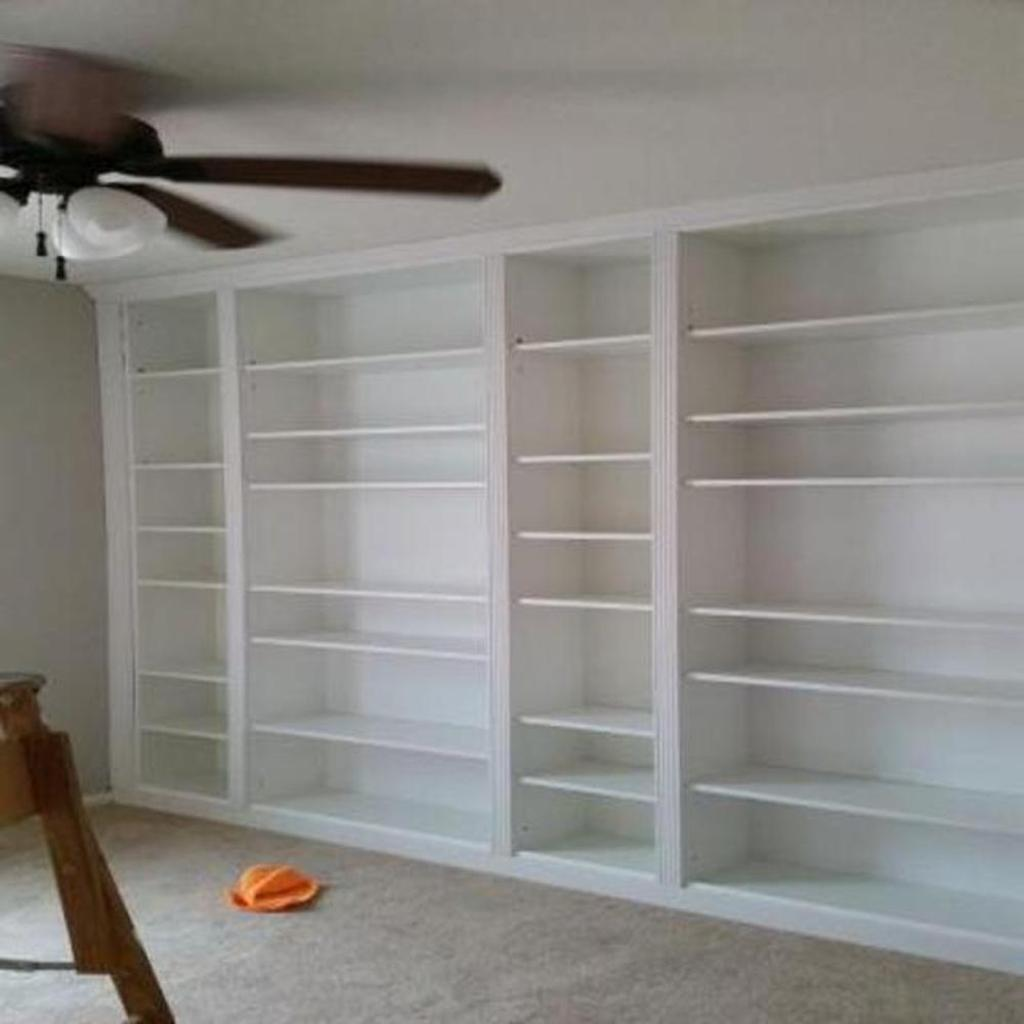lamp: (76, 152, 1022, 983)
